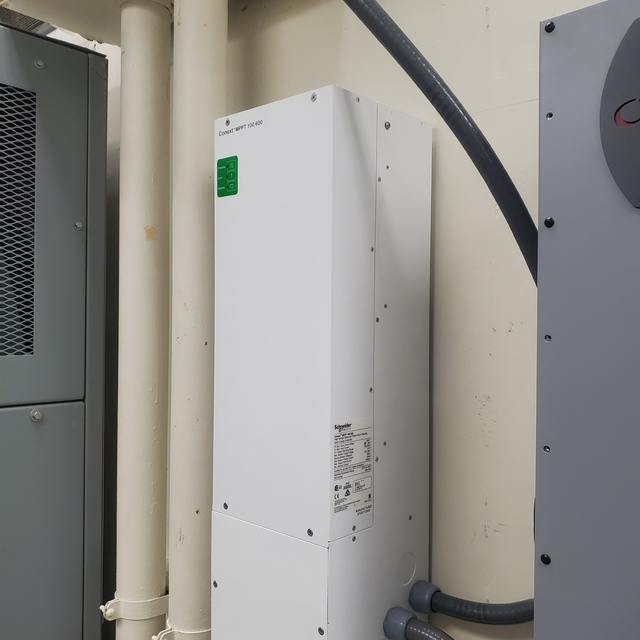charge_controller: (209, 80, 431, 640)
